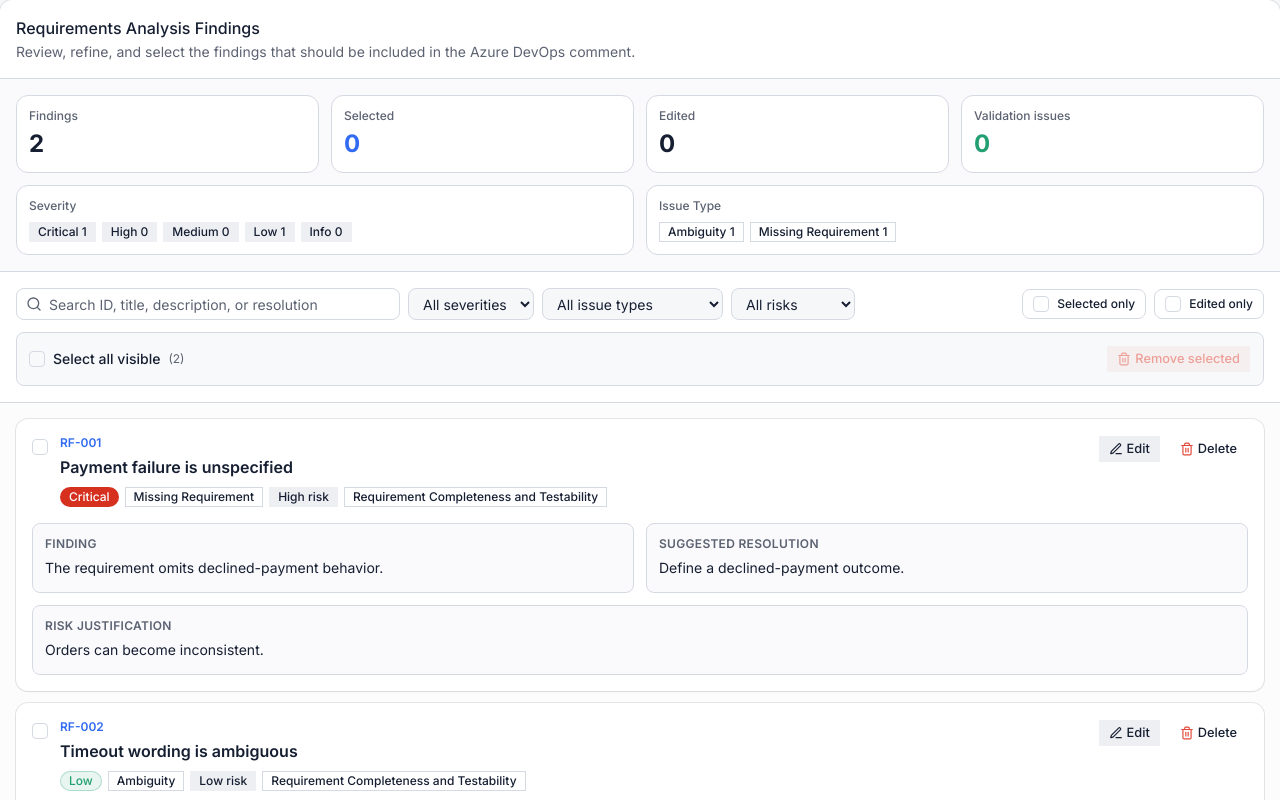
Test: RequirementFindingsReview › filters findings by search and severity
Type "timeout" into the field named "Search requirement findings". click: (208, 304)
box: [16, 288, 400, 320]
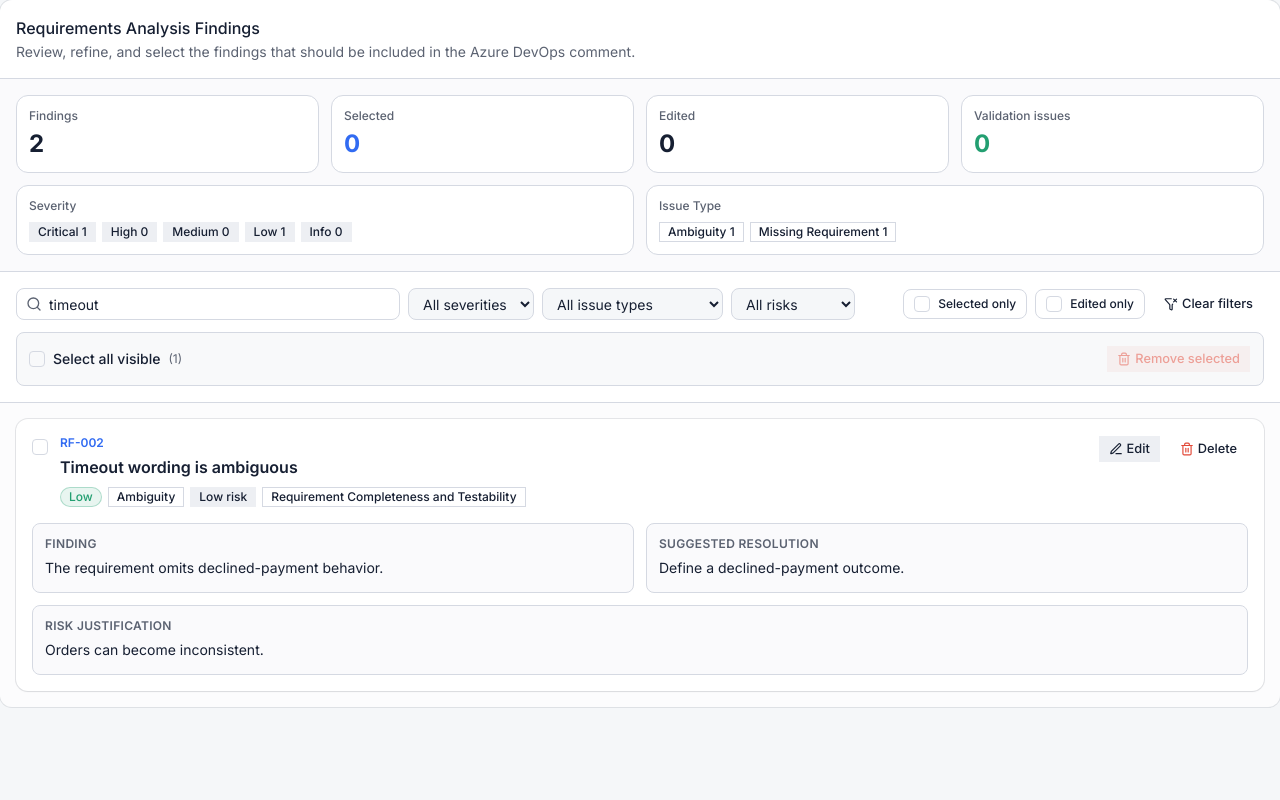
Expected: the heading "Timeout wording is ambiguous" is shown, [60, 457, 298, 477]
Expected: the heading "Payment failure is unspecified" is gone
Clear the field named "Search requirement findings". click: (208, 304)
box: [16, 288, 400, 320]
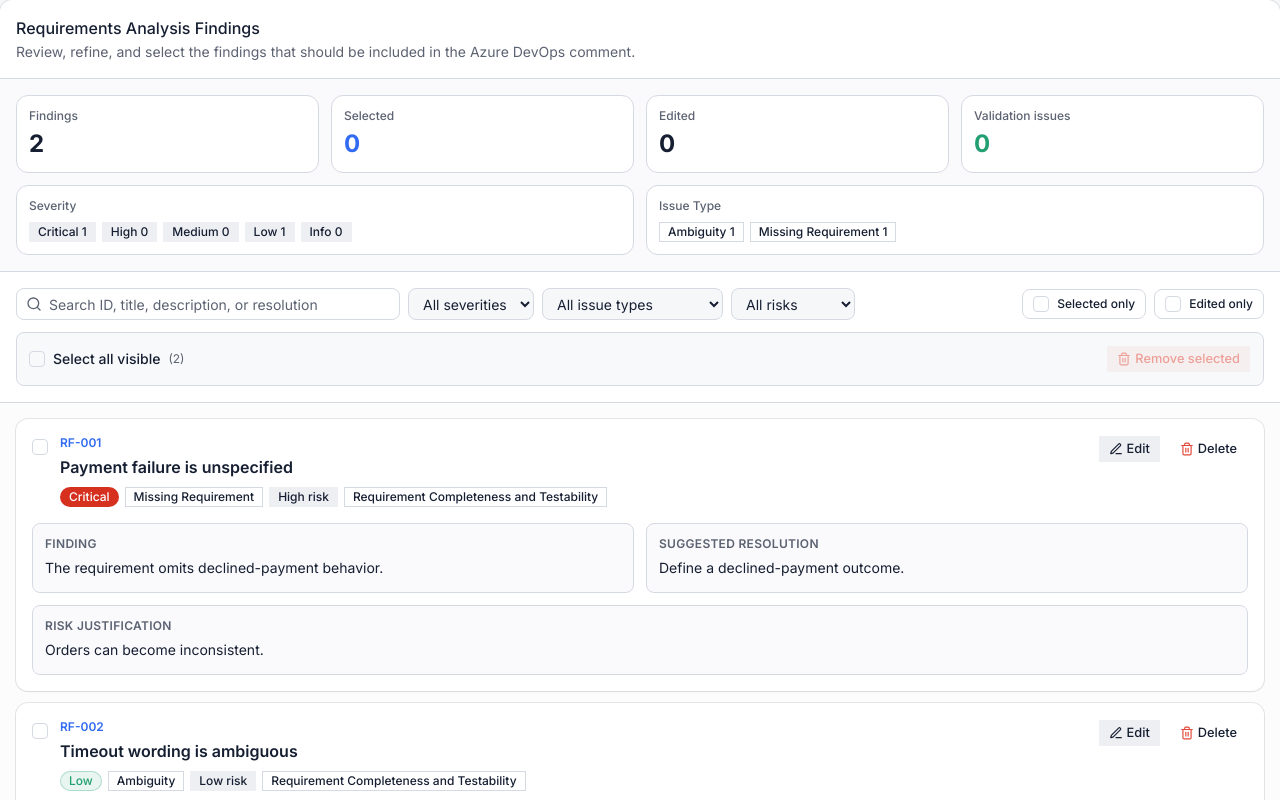
Select "Critical" in the dropdown named "Filter findings by severity". click: (471, 304)
box: [408, 288, 534, 320]
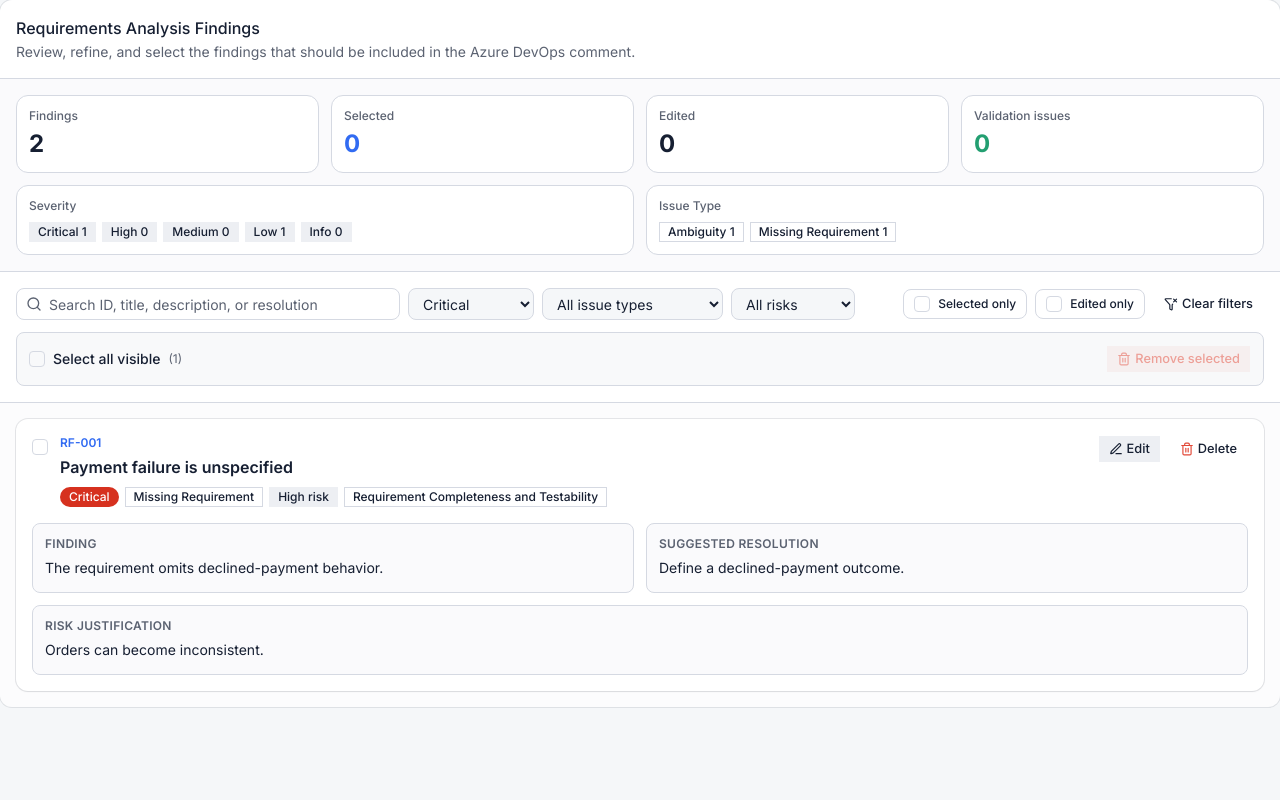
Expected: the heading "Payment failure is unspecified" is shown, [60, 457, 293, 477]
Expected: the heading "Timeout wording is ambiguous" is gone
